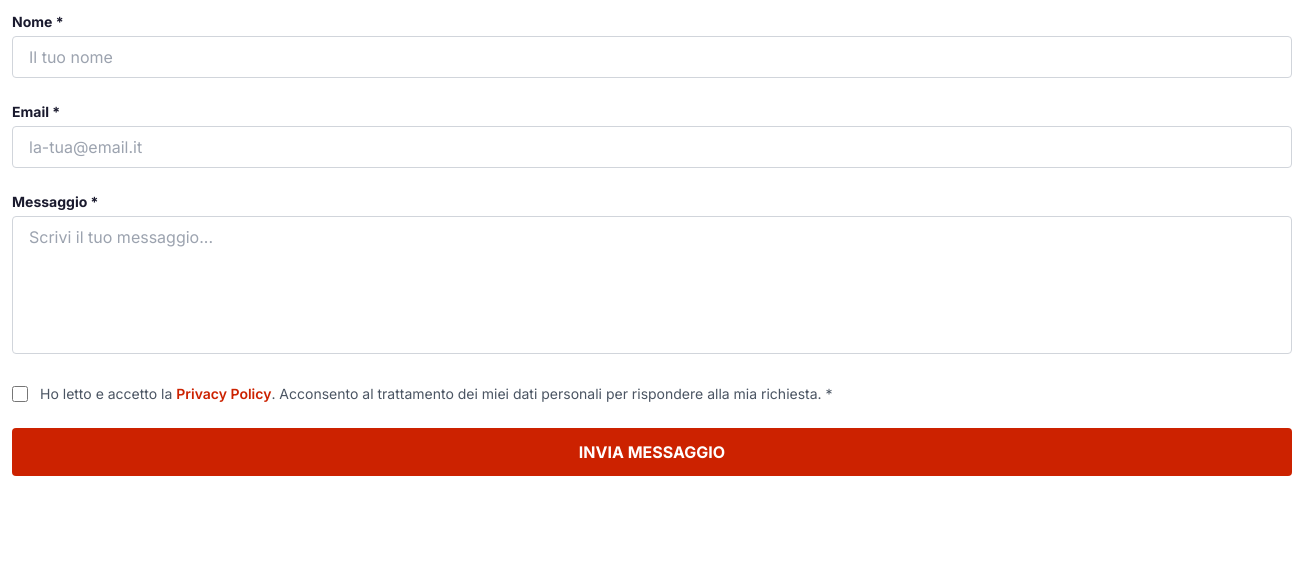
Test: ContactForm › shows validation errors on empty submit
Click the button "INVIA MESSAGGIO".
click(652, 452)  # box top-left (12, 428), bottom-right (1292, 476)
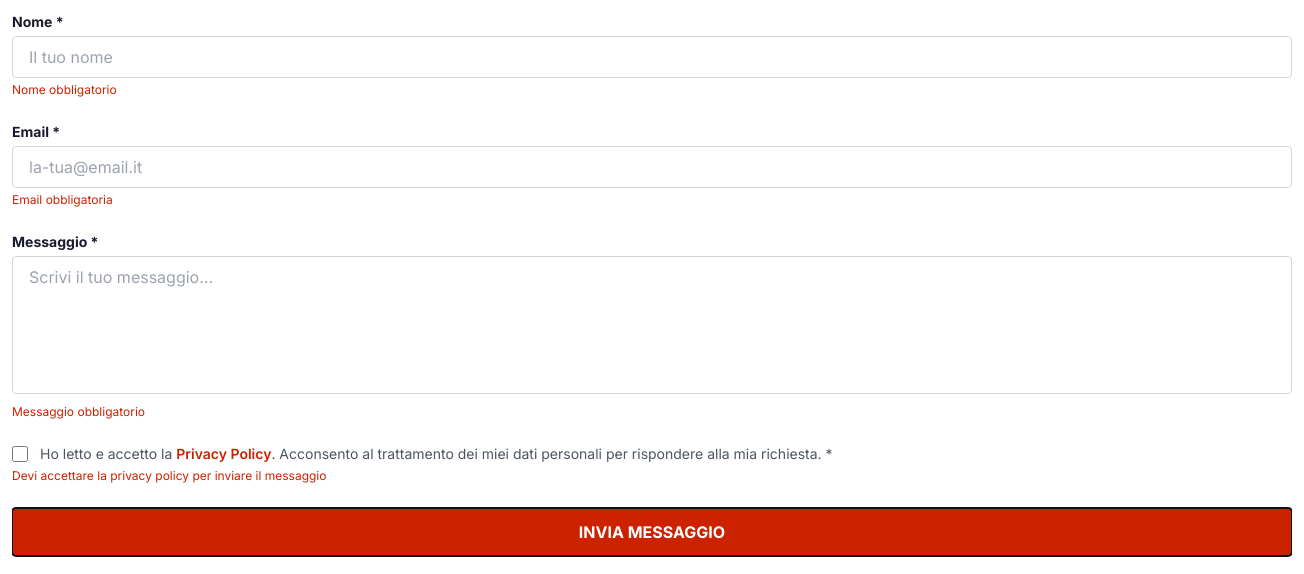
Expected: the text "Nome obbligatorio" is shown, top-left (12, 82), bottom-right (117, 97)
Expected: the text "Email obbligatoria" is shown, top-left (12, 192), bottom-right (113, 207)
Expected: the text "Messaggio obbligatorio" is shown, top-left (12, 404), bottom-right (145, 419)
